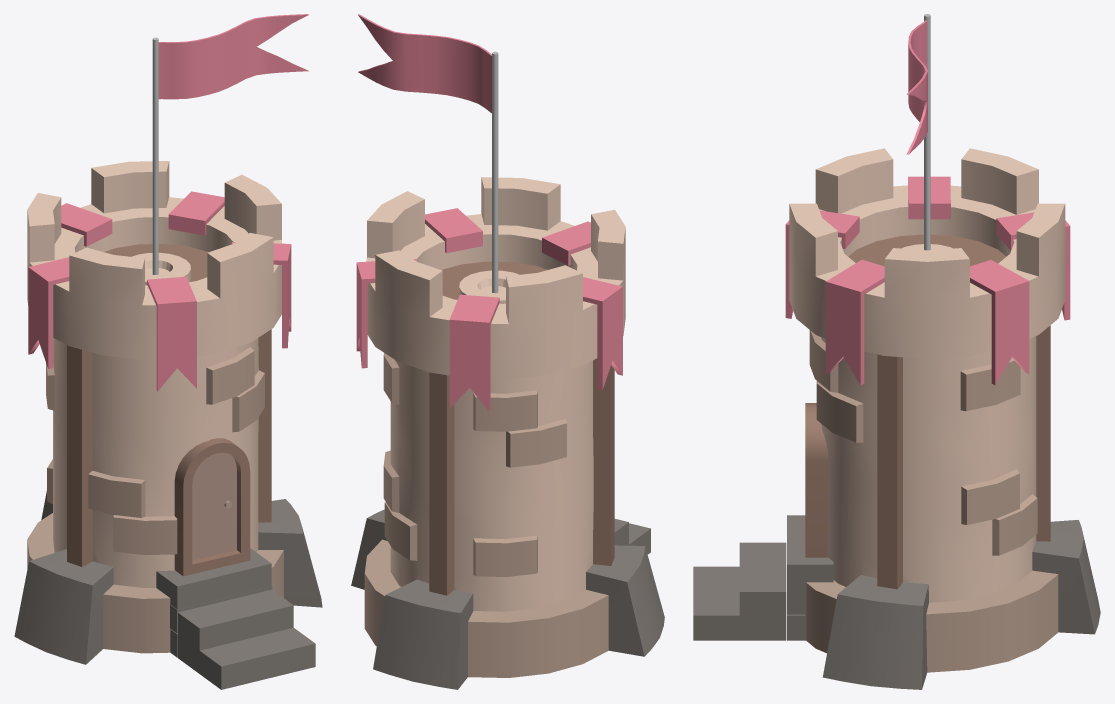
Rendered from Tower.fbx.
The picture shows the model from 3 angles, left to right: view 1: azimuth 30°, elevation 25°; view 2: azimuth 150°, elevation 25°; view 3: azimuth 270°, elevation 25°; orthographic projection. The views are drawn at different scales.
Visible parts, largest first — view 1: Tower; view 2: Tower; view 3: Tower.
Part boxes in pixels (left/top/right/bottom): Tower: left=14, top=14, right=322, bottom=689; Tower: left=351, top=14, right=664, bottom=689; Tower: left=693, top=14, right=1100, bottom=689.
Size of the model in its own units: 46.55 by 86.69 by 53.3.
